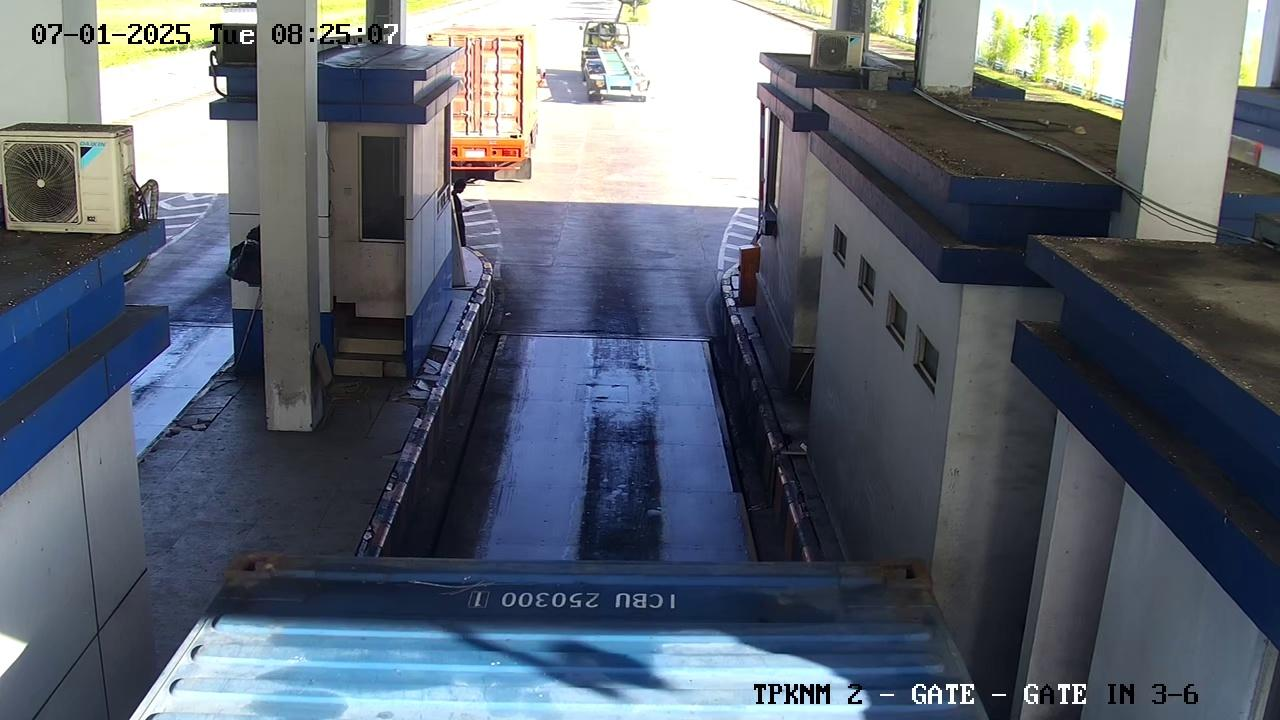Container_ID: (434, 580, 704, 638)
